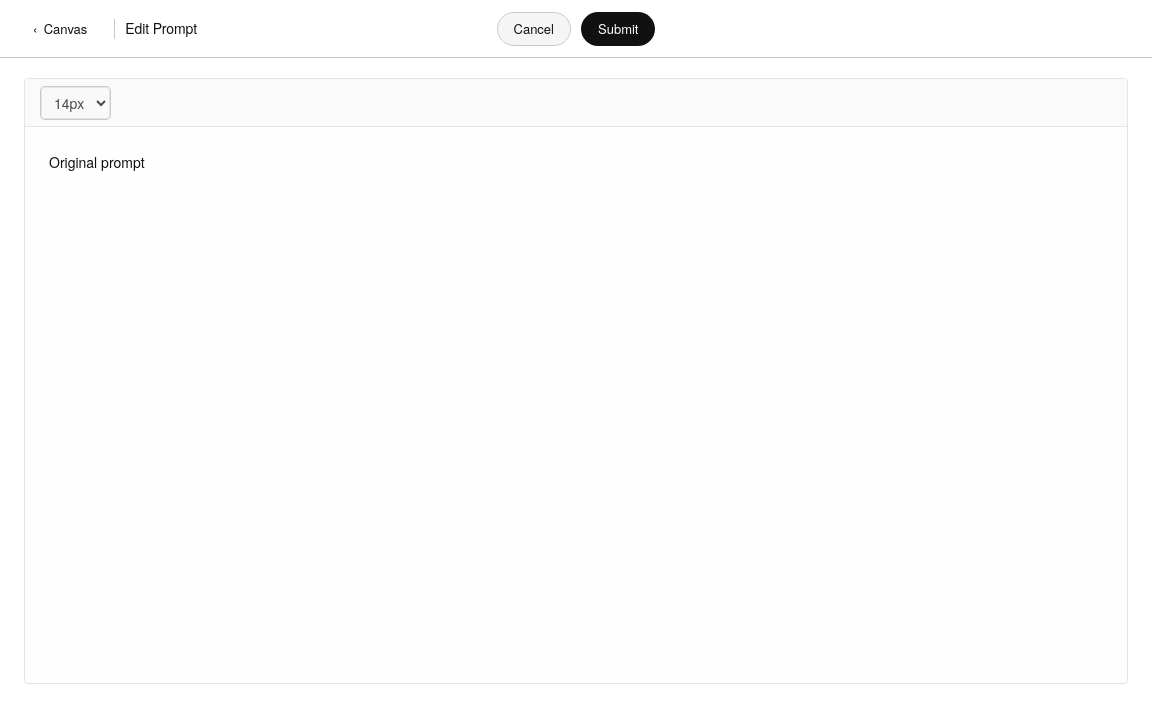
Test: PromptEditorModal › Cancel Button › should show confirmation dialog when Cancel is clicked with unsaved changes
The image size is (1152, 720).
Replace the text in the text box with placeholder "Describe what to generate..." with "Modified prompt": [576, 405] box [25,127,1127,683]
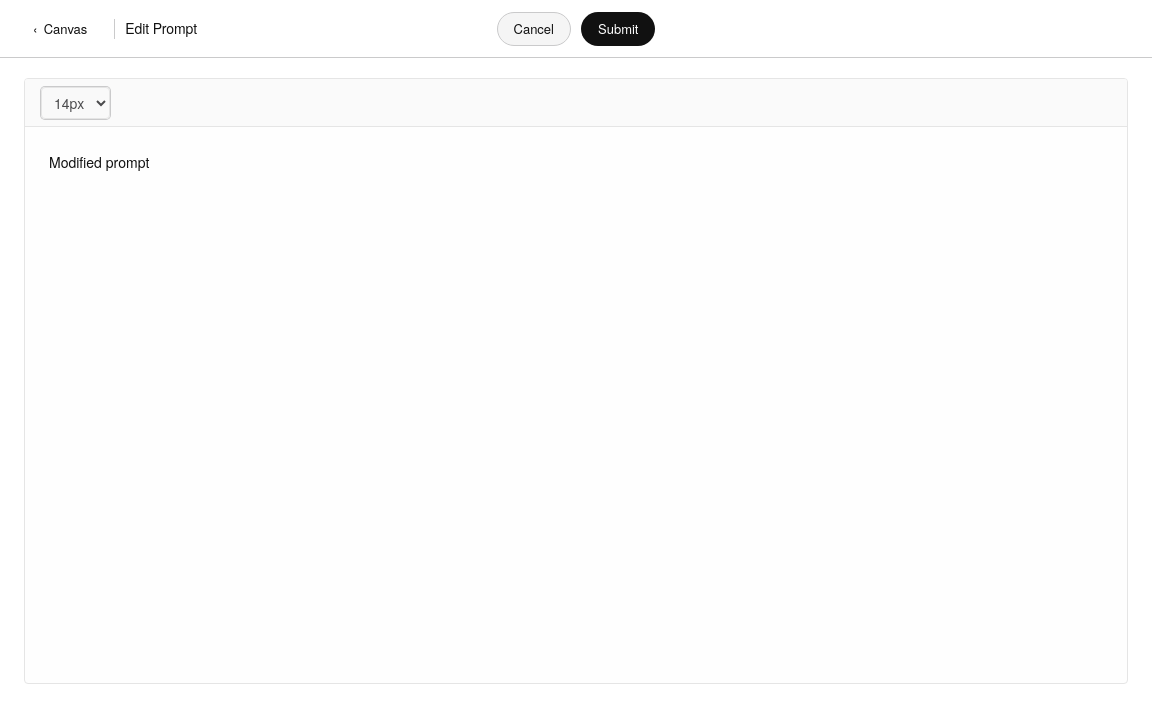
Click the button "Cancel": [534, 28] box [496,12,571,46]
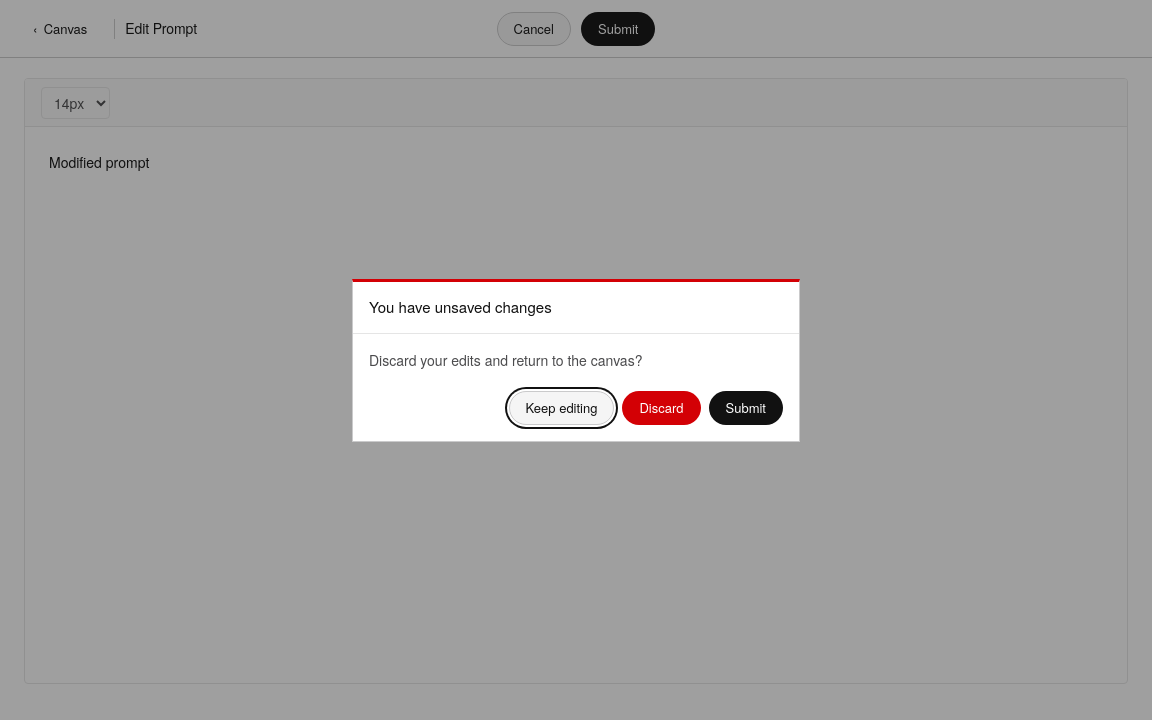
Check: the heading "You have unsaved changes" is shown, box [369,296,552,318]
